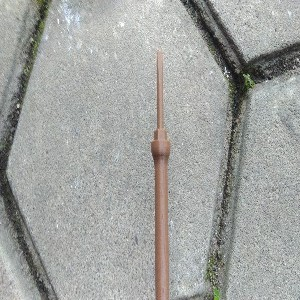obeng: (150, 50, 172, 300)
